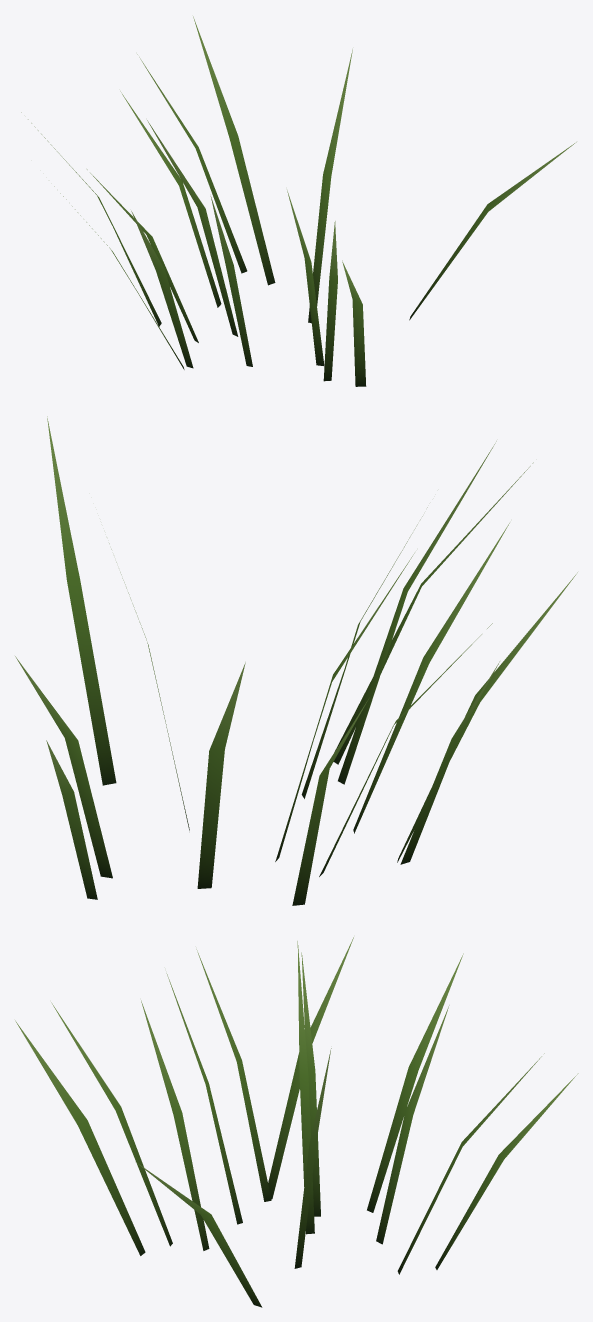
Rendered from b612_veg_VL_Grass_Short_A_1.glb.
The picture shows the model from 3 angles, top to bottom: view 1: azimuth 30°, elevation 25°; view 2: azimuth 150°, elevation 25°; view 3: azimuth 270°, elevation 25°; orthographic projection. The views are drawn at different scales.
Visible parts, largest first — view 1: Grass_Short_A_LOD1; view 2: Grass_Short_A_LOD1; view 3: Grass_Short_A_LOD1.
Part boxes in pixels (<box>): Grass_Short_A_LOD1: <box>21,16,576,386</box>; Grass_Short_A_LOD1: <box>15,416,577,905</box>; Grass_Short_A_LOD1: <box>15,937,578,1307</box>.
Bounding box in the file's own units: 0.2153 × 0.1167 × 0.2383.
